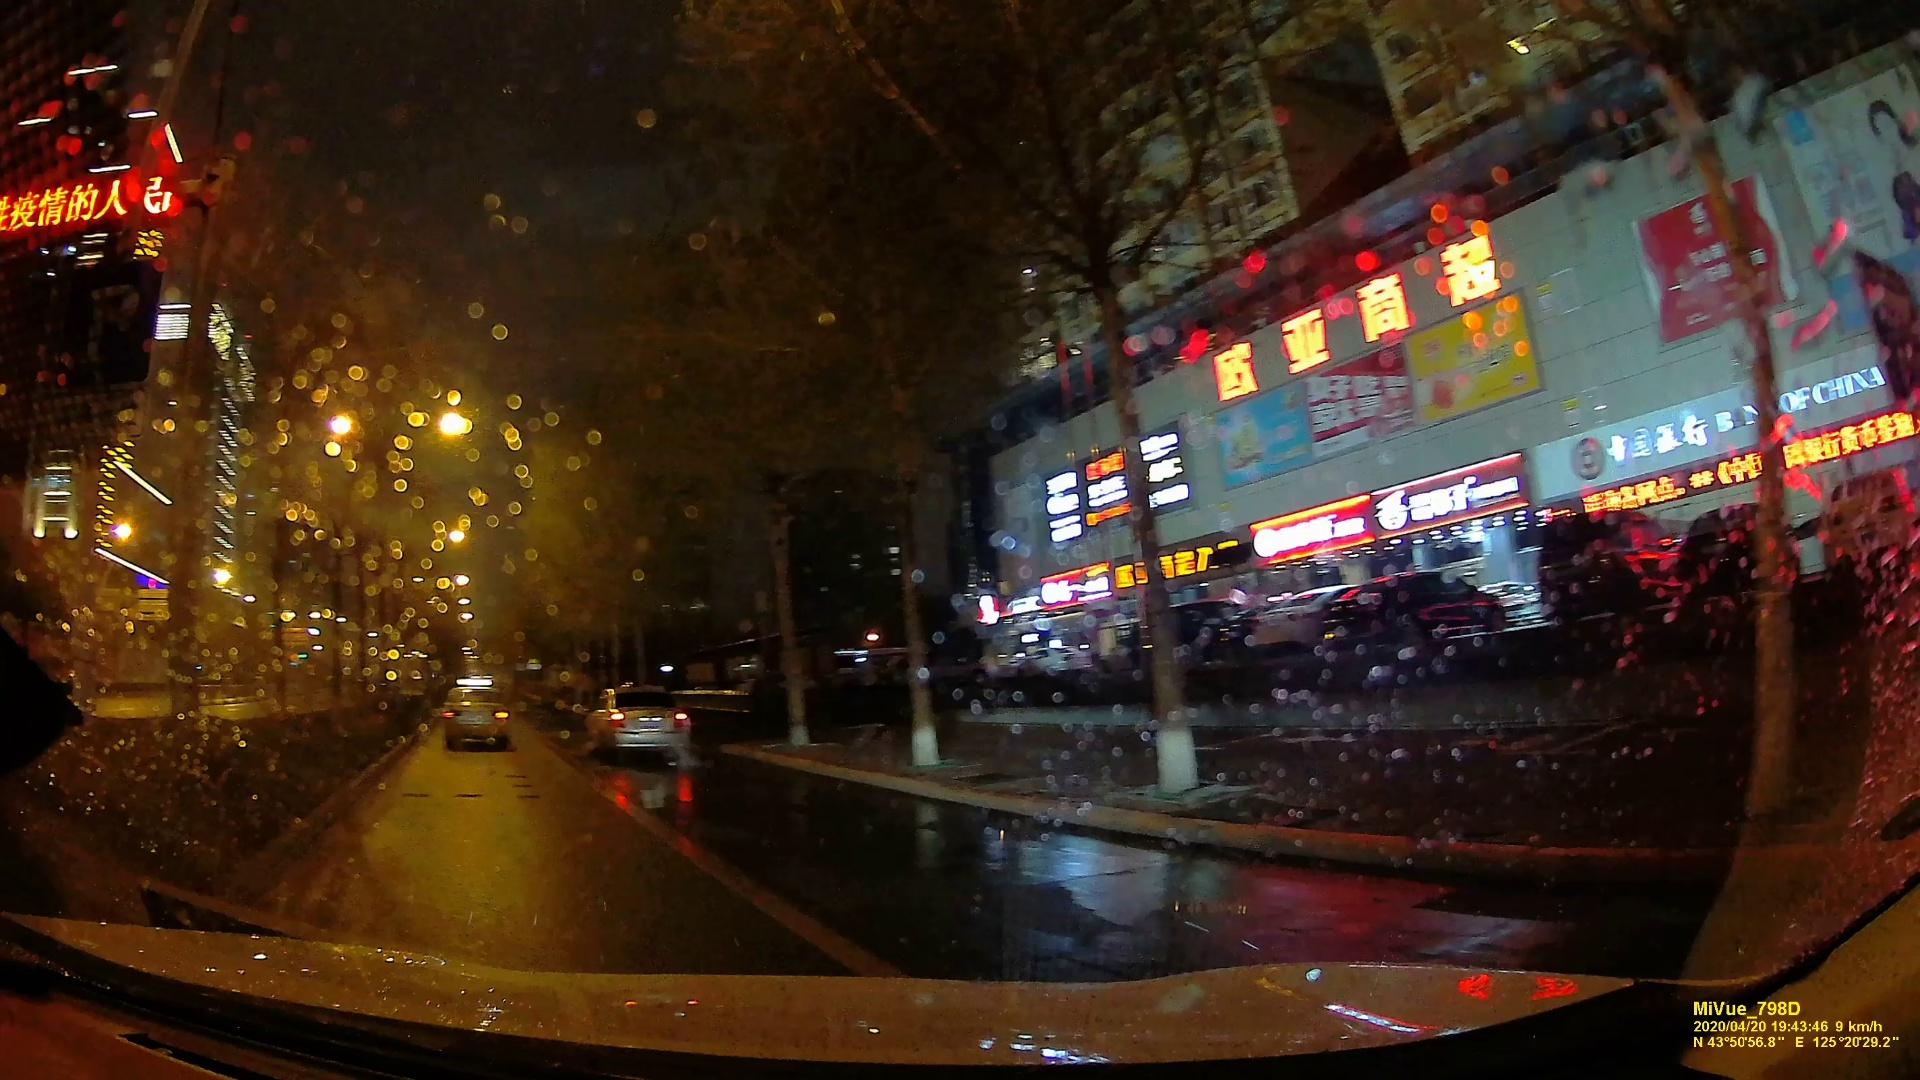vehicle: (584, 684, 694, 764), (440, 686, 514, 750)
